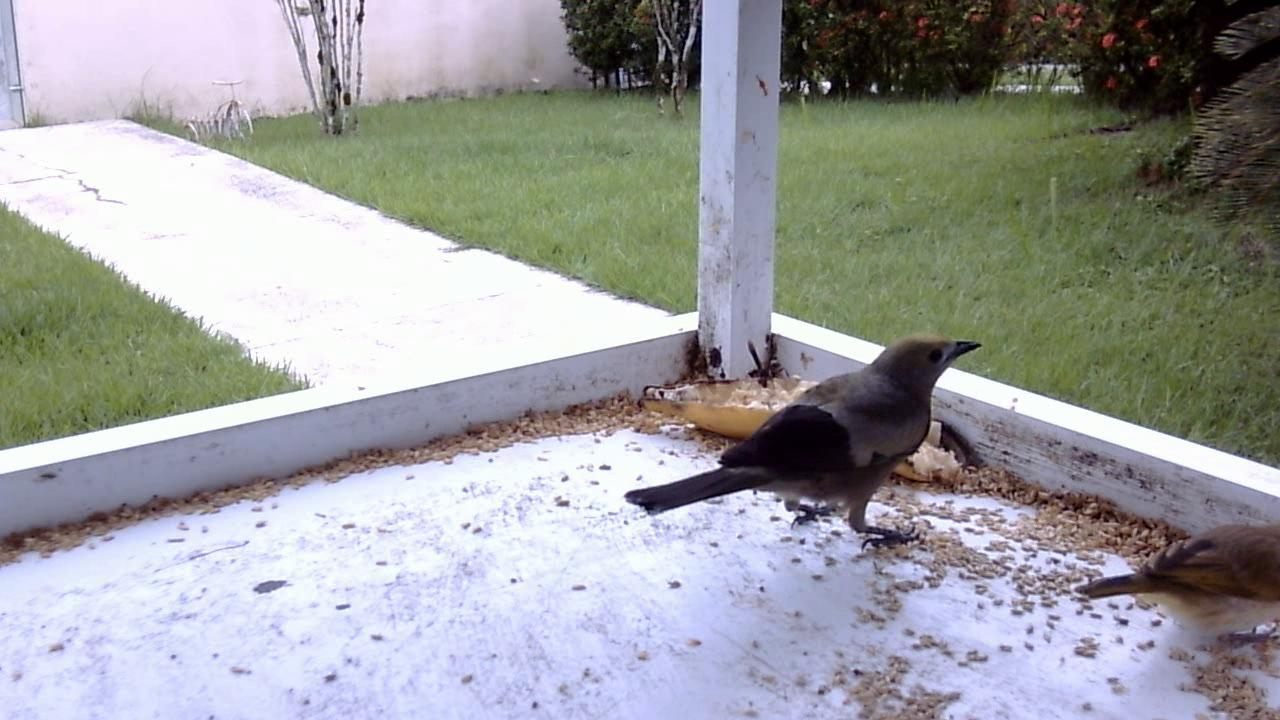canario_do_amazonas: (1076, 510, 1278, 672)
sanhaco_do_coqueiro: (622, 329, 977, 556)
